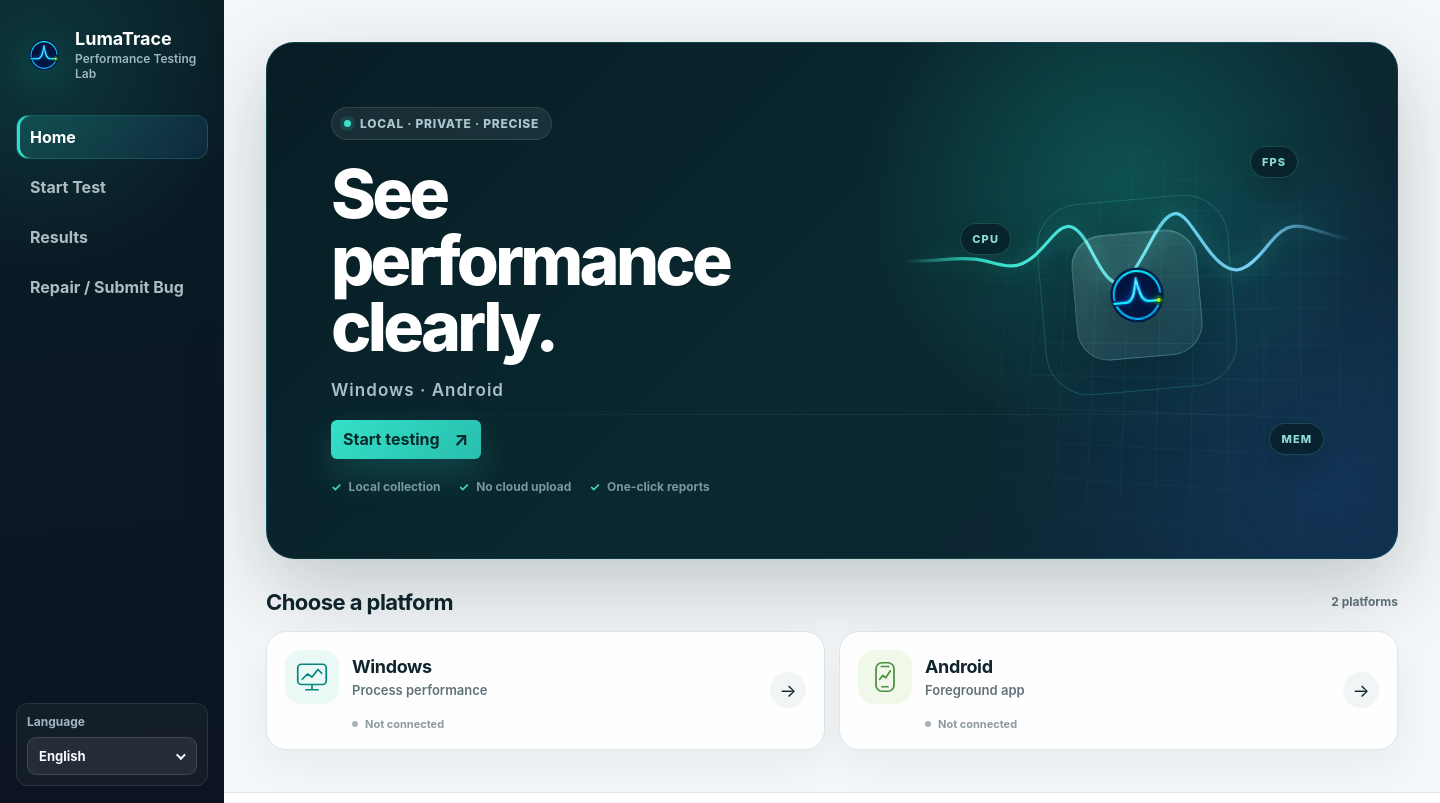
Test: basic desktop rendering › renders the simple home flow
Expected: the heading "See performance clearly." is shown, [331, 152, 729, 367]
Expected: the heading "Choose a platform" is shown, [266, 589, 453, 615]
What coordinates should you click on to do the following:
click the dropdown named "Language"
I would click on:
 (112, 756)
Its box is [27, 737, 197, 775].
(page scrolled)
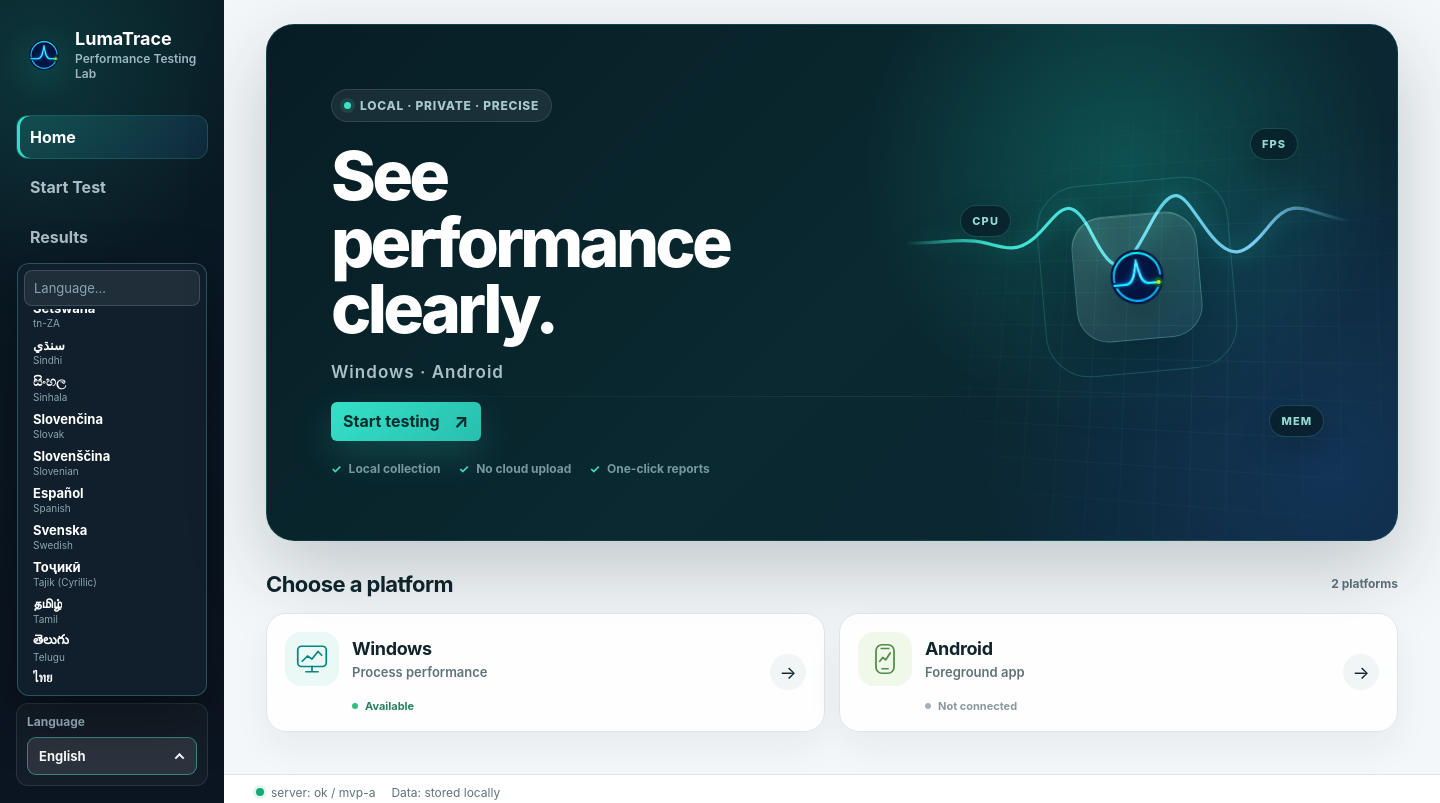
What coordinates should you click on to do the following:
click the option "Español Spanish"
I would click on:
 (112, 499)
Its box is [24, 482, 200, 516].
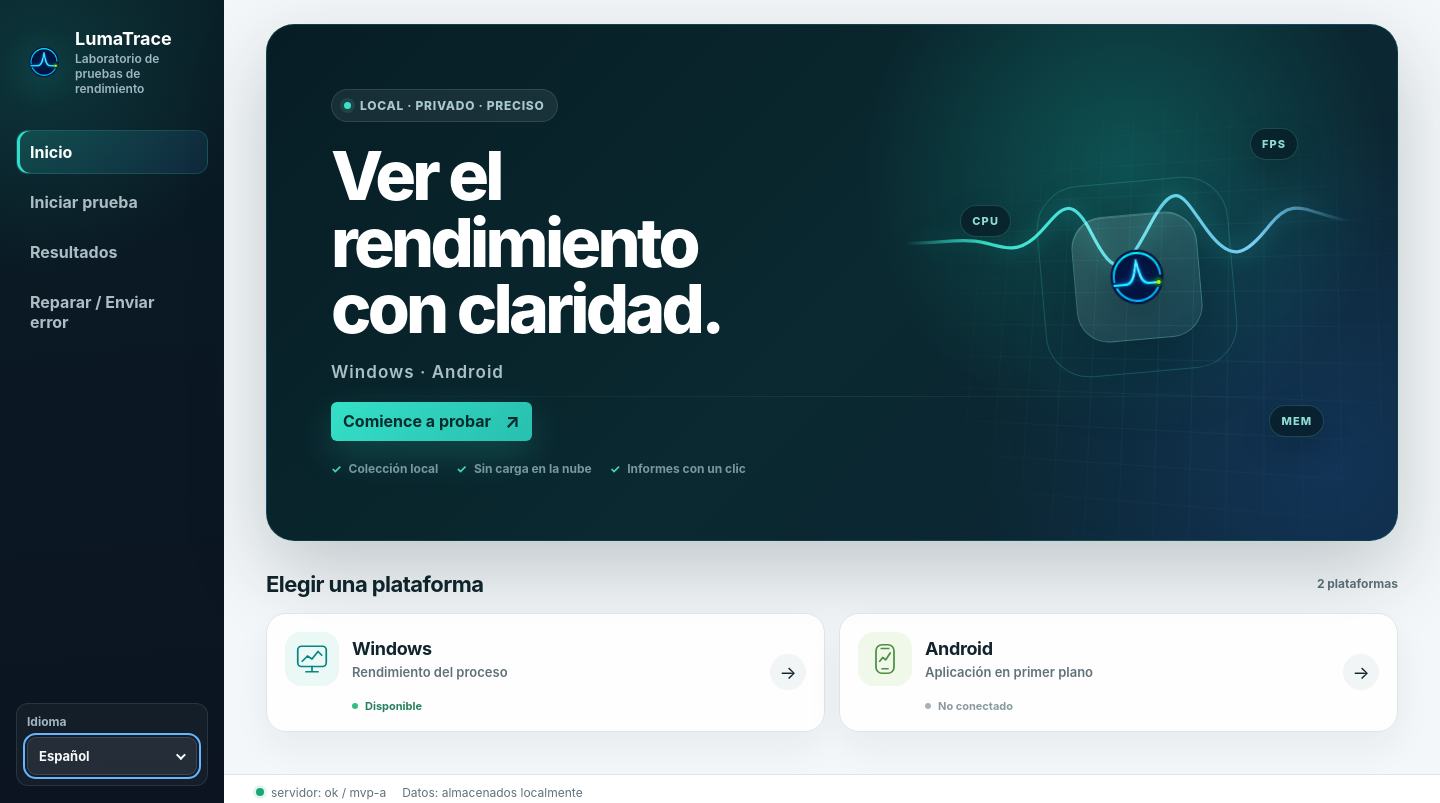
Expected: the dropdown named "Idioma" is shown, [27, 737, 197, 775]
Result: the heading "Ver el rendimiento con claridad." is shown at [331, 134, 722, 349]
